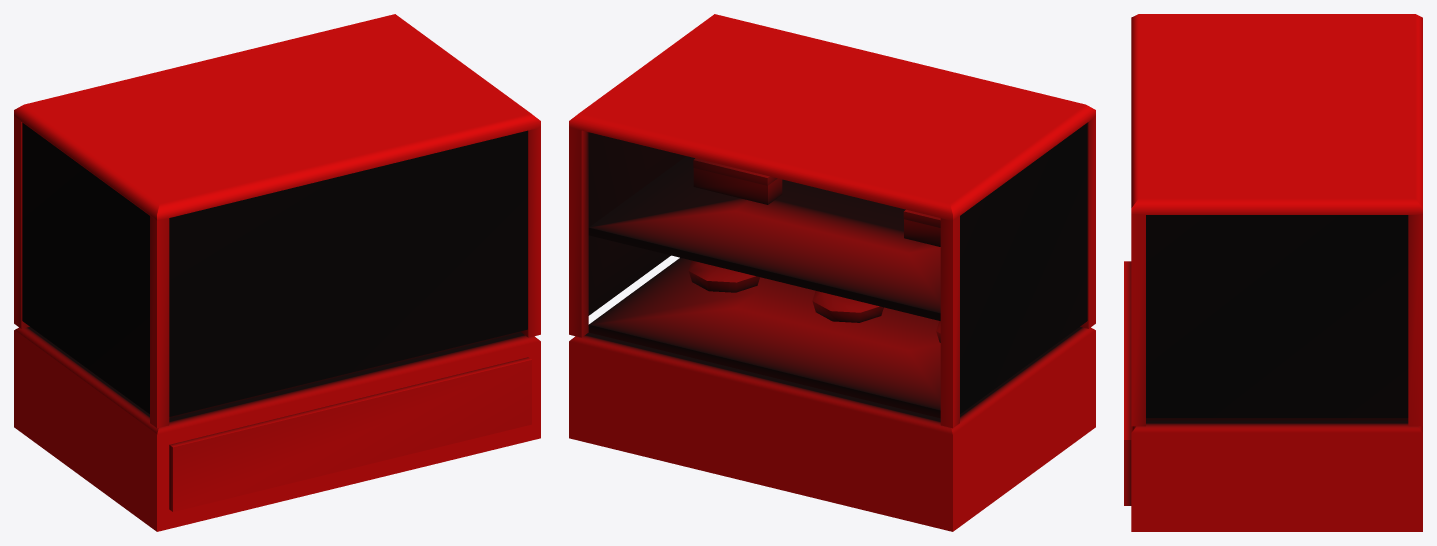
The model's file is CI_Cafe_PastryCase_Small.glb.
3 renders of one model, left to right at view 1: azimuth 30°, elevation 25°; view 2: azimuth 150°, elevation 25°; view 3: azimuth 270°, elevation 25°, orthographic.
Visible parts, largest first — view 1: CI_Cafe_PastryCase_Small; view 2: CI_Cafe_PastryCase_Small; view 3: CI_Cafe_PastryCase_Small.
Part boxes in pixels (x1,y1,x2,y2): CI_Cafe_PastryCase_Small: (14,14,540,531); CI_Cafe_PastryCase_Small: (569,14,1095,531); CI_Cafe_PastryCase_Small: (1124,14,1422,531).
Bounding box in the file's own units: 0.62 × 0.5 × 0.41.
